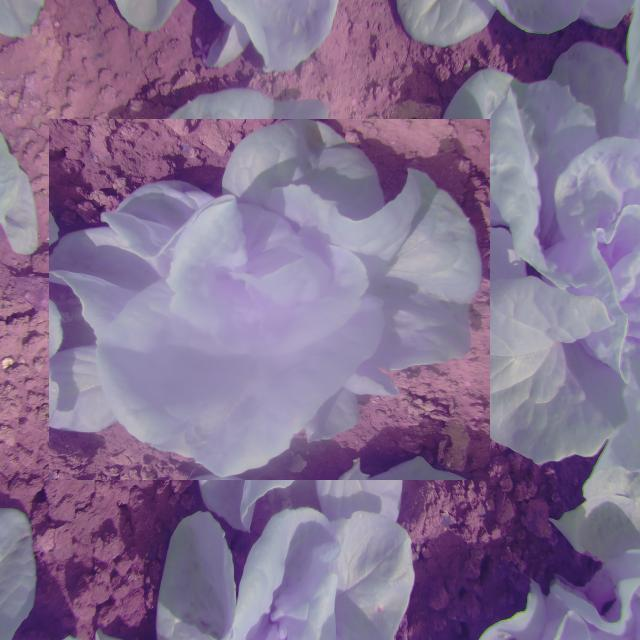vege: (69, 99, 470, 501)
